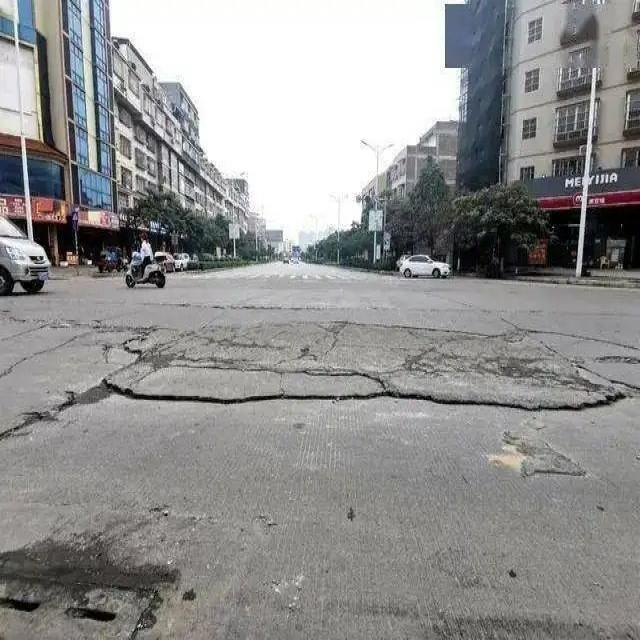Pothole: (6, 317, 633, 413)
